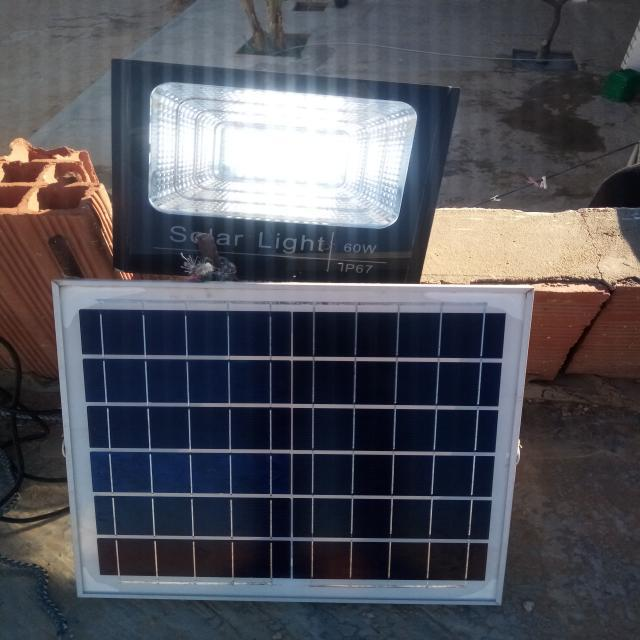no faulty: (57, 282, 535, 603)
